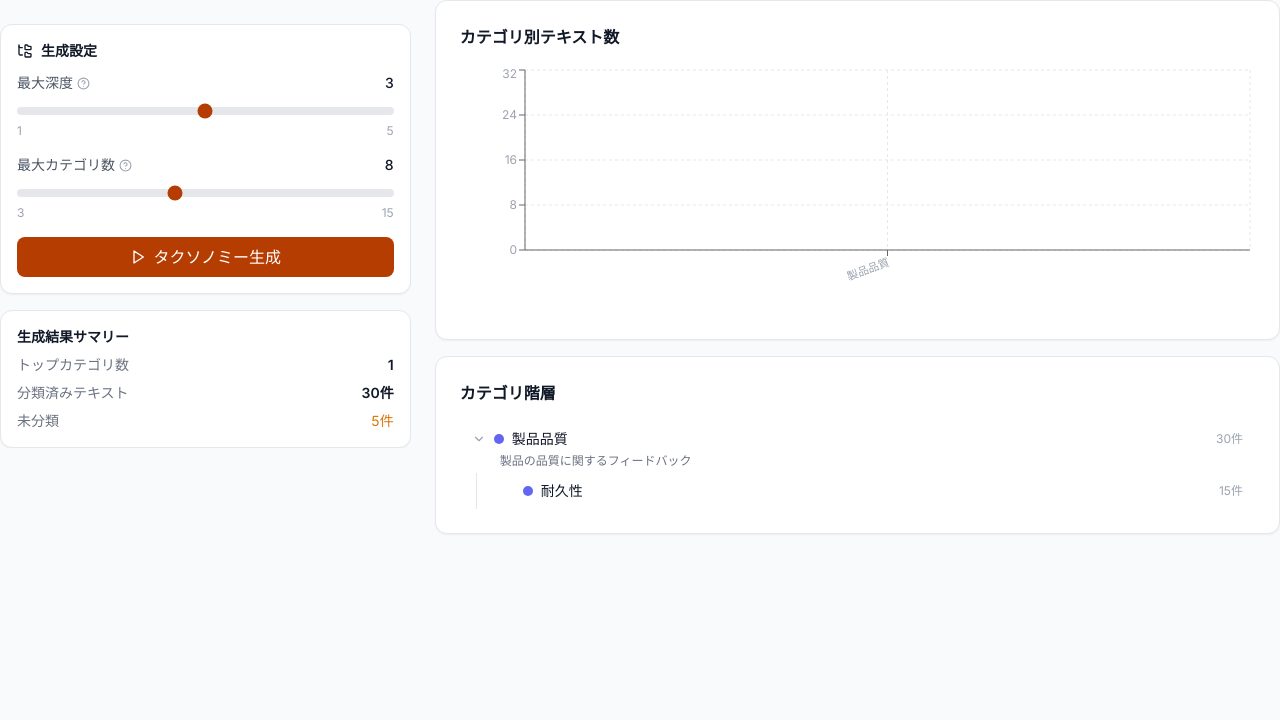
Test: TaxonomyPage › API失敗時にエラー表示
What coordinates should you click on to do the following:
click the button "タクソノミー生成"
I would click on:
 (205, 257)
Its box is x1=17 y1=237 x2=394 y2=277.
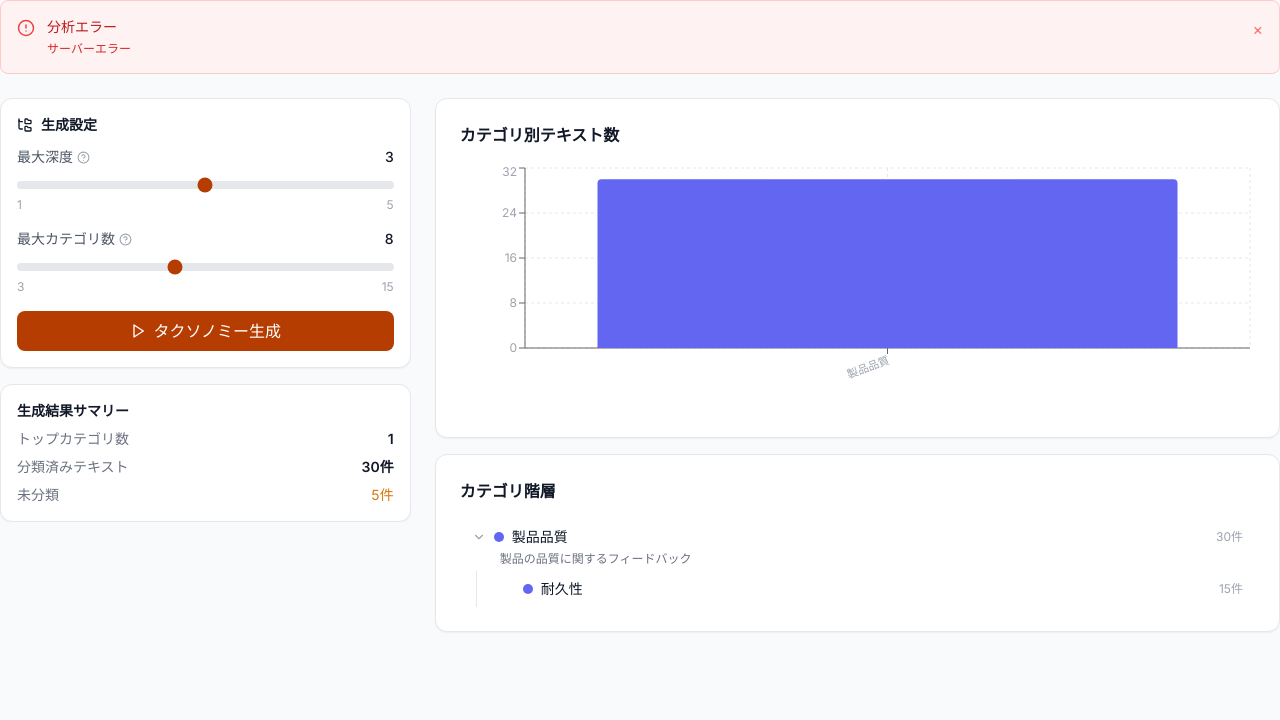
Expected: the text "分析エラー" is shown, x1=47 y1=18 x2=117 y2=35
